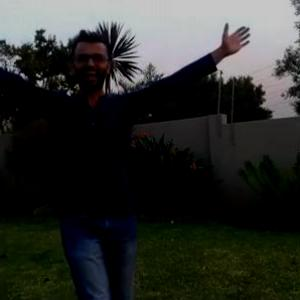takeoff: (1, 28, 245, 299)
